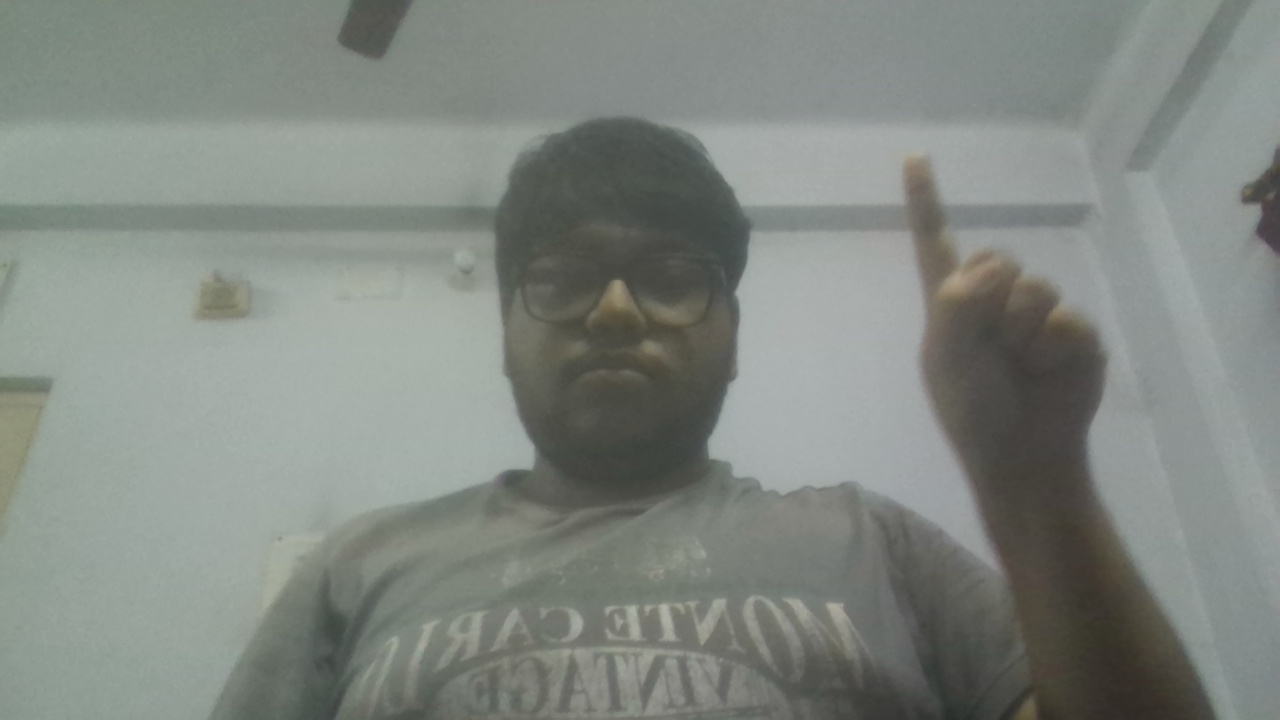Gesture1: (893, 138, 1125, 498)
